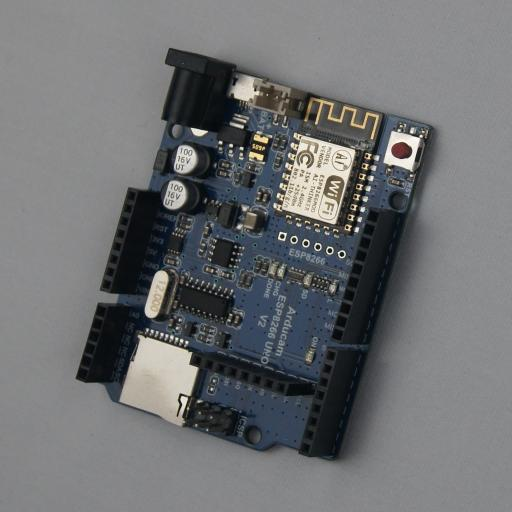Arduino Uno Camera Shield: (76, 48, 437, 462)
